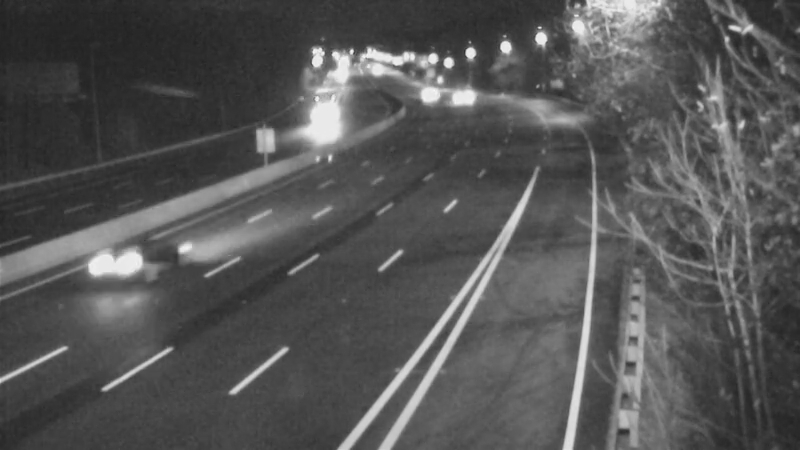vehicle: (75, 219, 155, 299), (398, 66, 448, 116), (432, 73, 482, 123), (297, 95, 347, 145)
